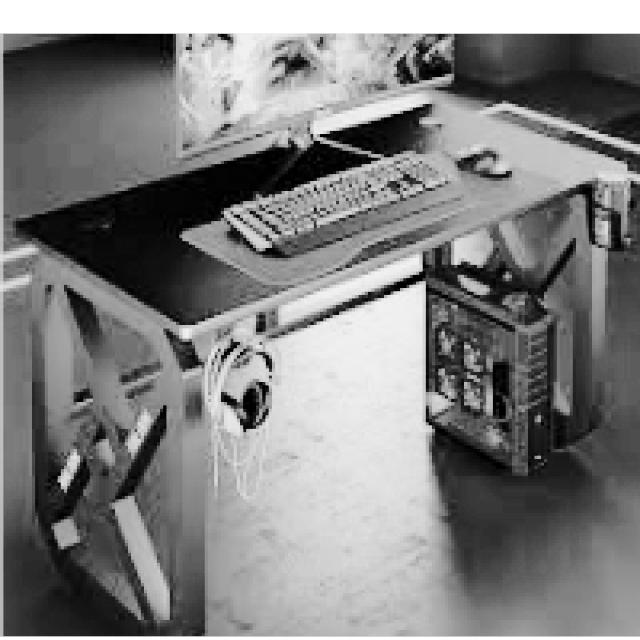table: (16, 87, 634, 630)
